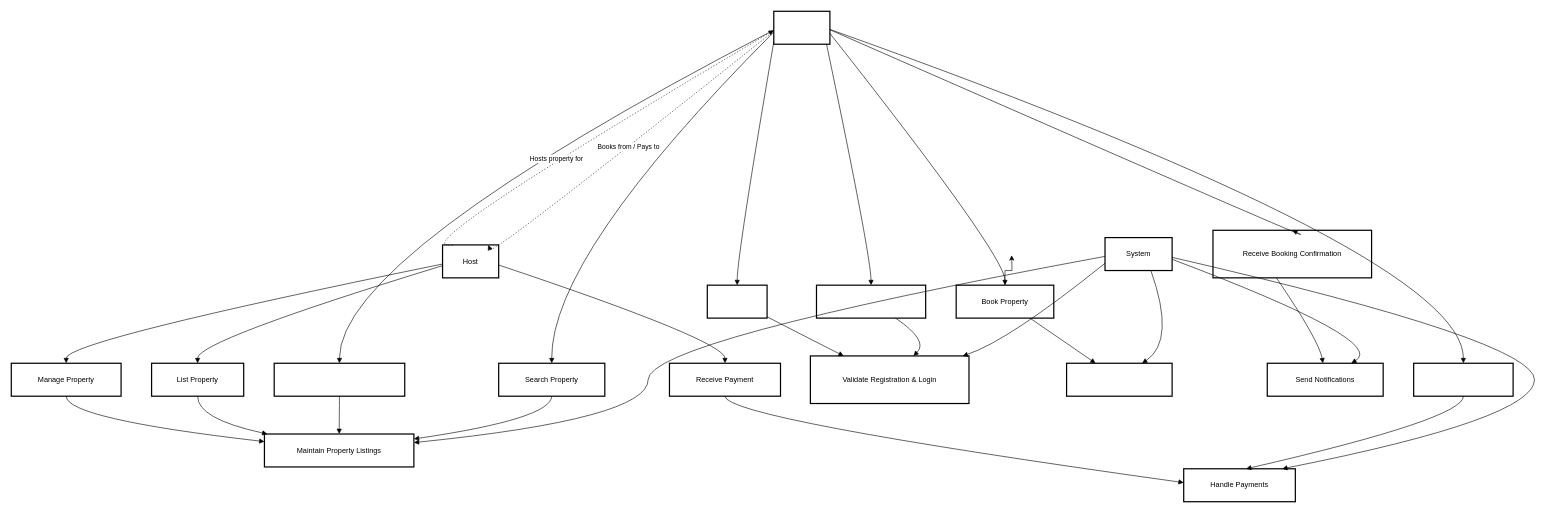
The diagram is 1545 pixels wide and 512 high, and some of its shapes have lost their labels. Each missing label, with the centre of its shape:
"Login" belongs at [736,301].
"Make Payment" belongs at [1463,379].
"Process Booking" belongs at [1119,379].
"Register Account" belongs at [871,301].
"User" belongs at [801,27].
"View Property Details" belongs at [339,379].
